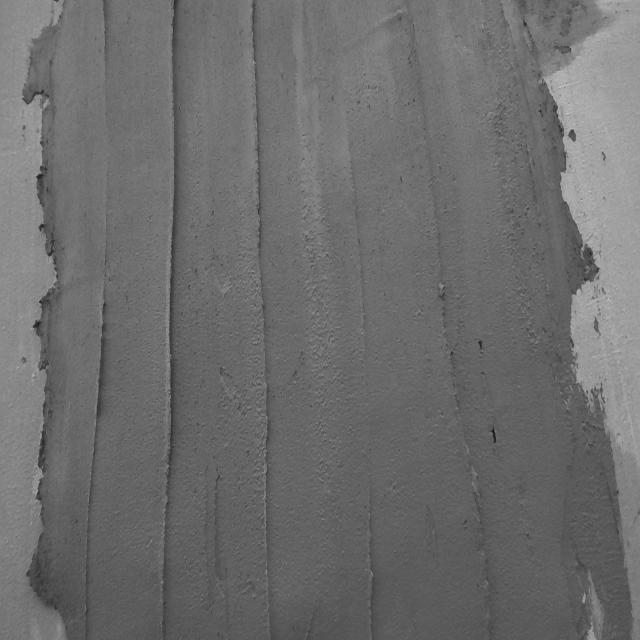trowels marks: (80, 0, 117, 640), (344, 129, 384, 640), (246, 4, 274, 640), (442, 327, 486, 640), (161, 2, 180, 640)
